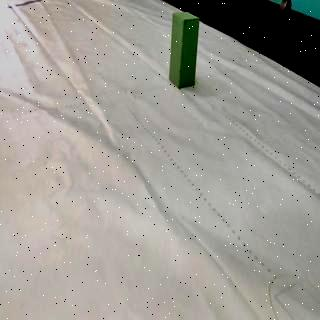greenbox: (167, 10, 201, 90)
